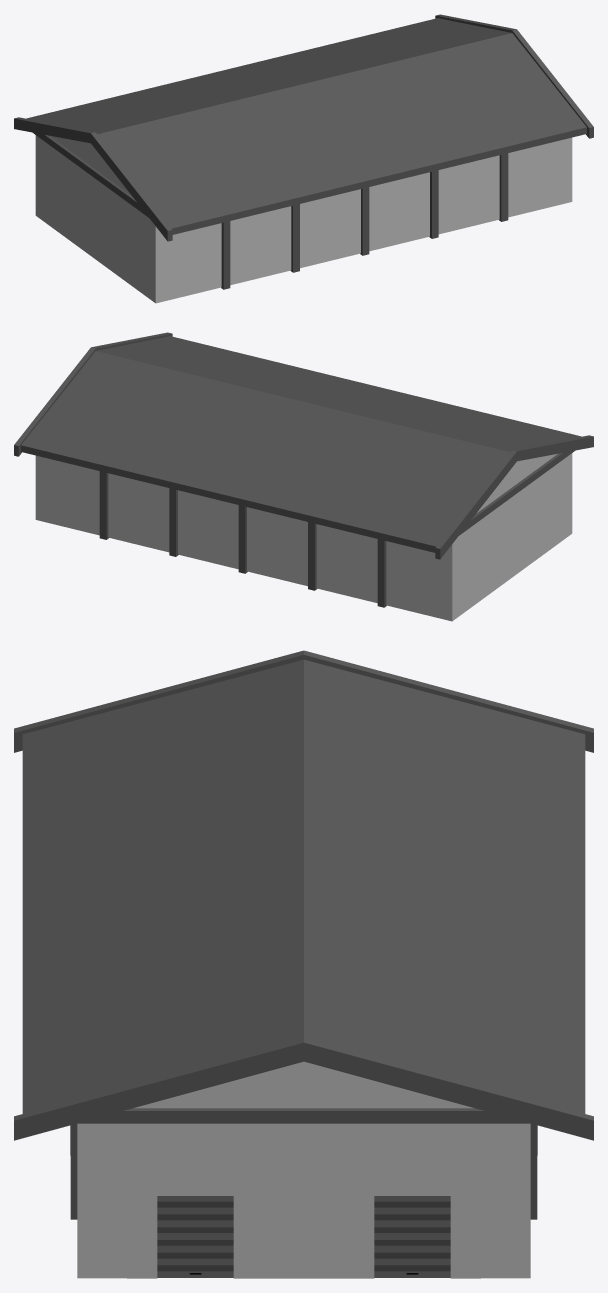
File: warehouse.fbx
3 views of the same model, one above another, from view 1: azimuth 30°, elevation 25°; view 2: azimuth 150°, elevation 25°; view 3: azimuth 270°, elevation 25° (orthographic). The views are drawn at different scales.
Visible parts, largest first — view 1: Cube; view 2: Cube; view 3: Cube.
Boxes of the visible parts, left/top/right/bottom form: Cube: left=14, top=14, right=593, bottom=303; Cube: left=14, top=332, right=593, bottom=621; Cube: left=14, top=650, right=593, bottom=1278.
Bounding box in the file's own units: 400 × 115 × 250.
